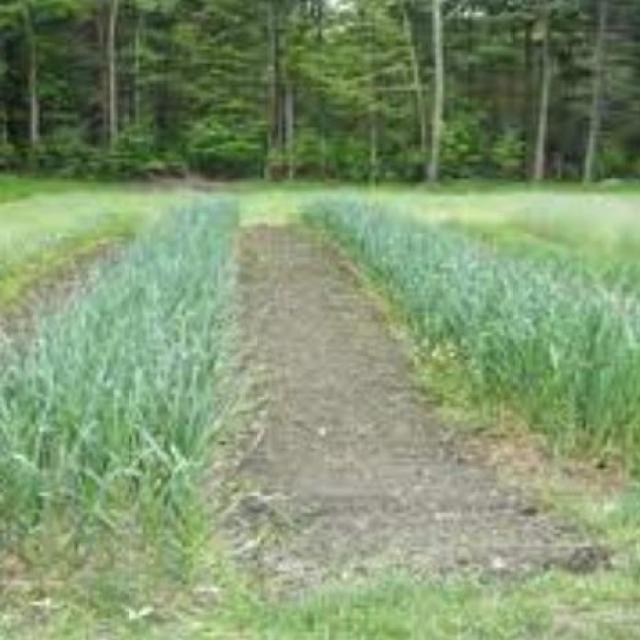row: (206, 208, 625, 589)
